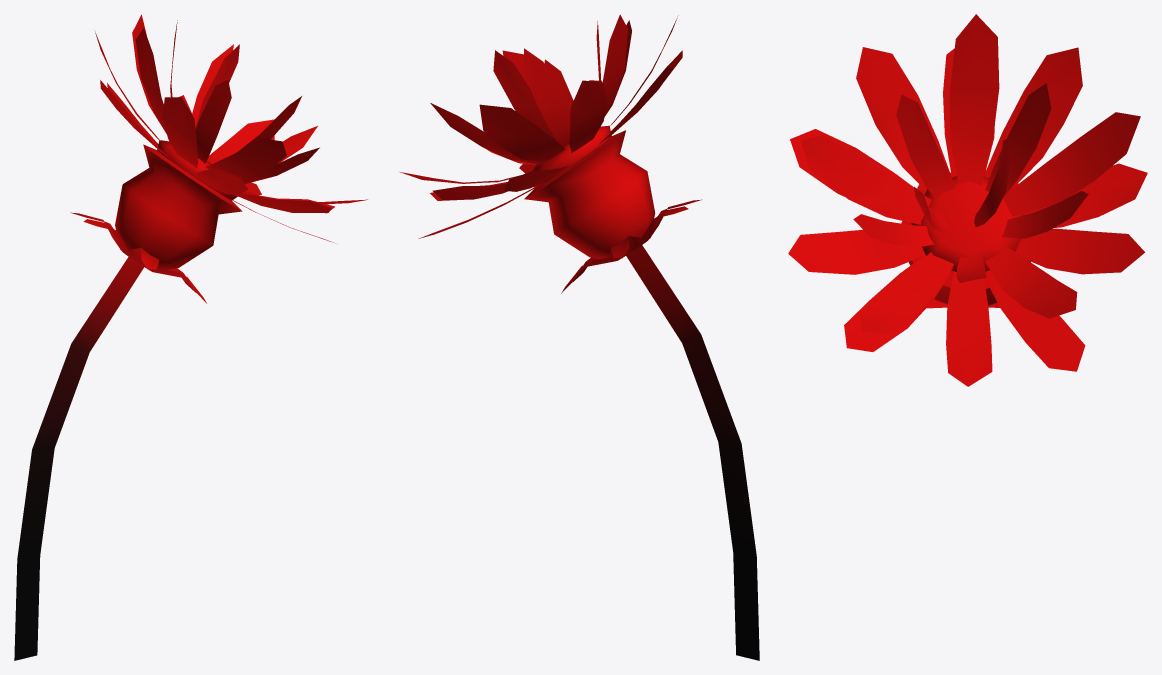
The model's file is SM_DandelionFlower_02_LOD1.fbx.
The picture shows the model from 3 angles, left to right: view 1: azimuth 30°, elevation 25°; view 2: azimuth 150°, elevation 25°; view 3: azimuth 270°, elevation 25°; orthographic projection. The views are drawn at different scales.
Visible parts, largest first — view 1: SM_DandelionFlower_02_LOD1; view 2: SM_DandelionFlower_02_LOD1; view 3: SM_DandelionFlower_02_LOD1.
Part boxes in pixels (x1,y1,x2,y2): SM_DandelionFlower_02_LOD1: (14, 14, 367, 660); SM_DandelionFlower_02_LOD1: (400, 14, 759, 660); SM_DandelionFlower_02_LOD1: (788, 14, 1147, 386).
Bounding box in the file's own units: 56.36 × 46.11 × 100.
